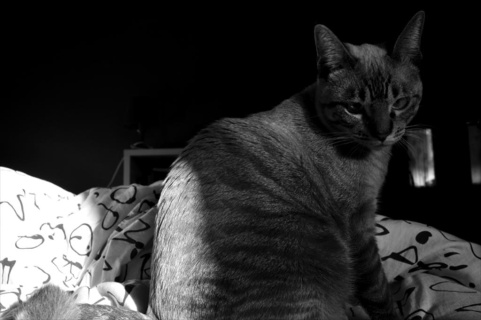Cat: (9, 13, 424, 319)
